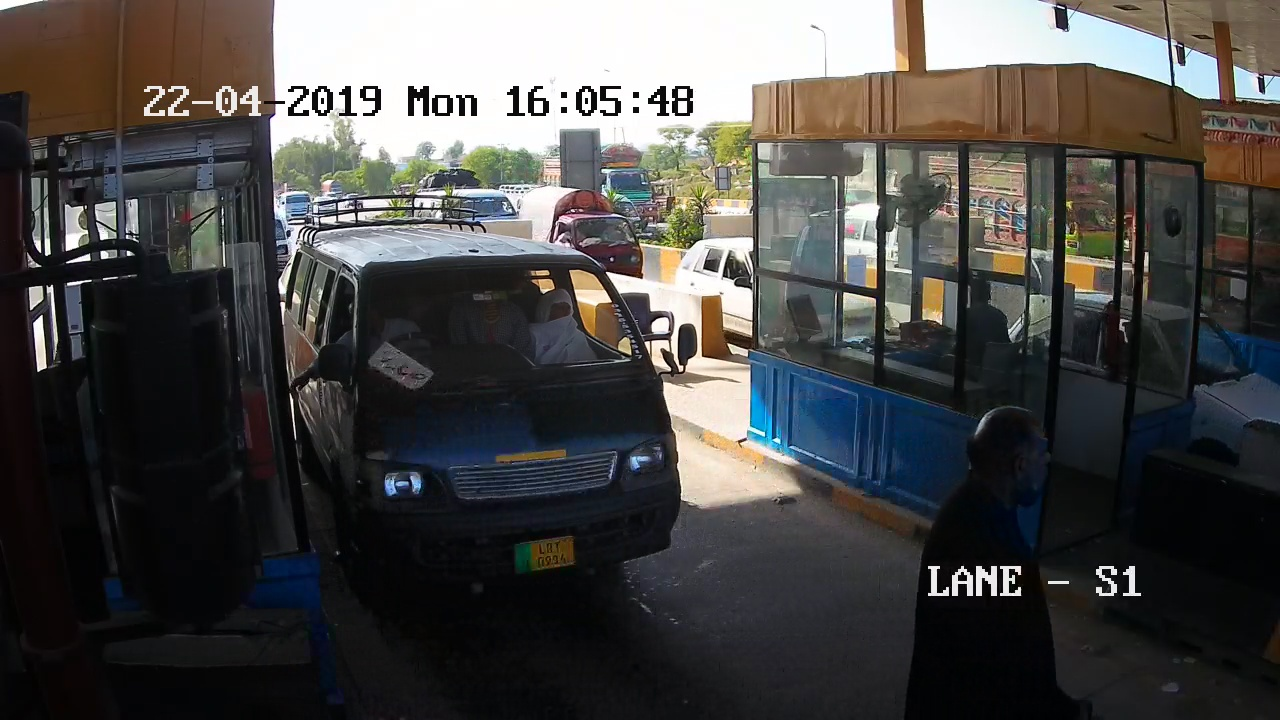Number Plate (Car): (513, 540, 577, 570)
